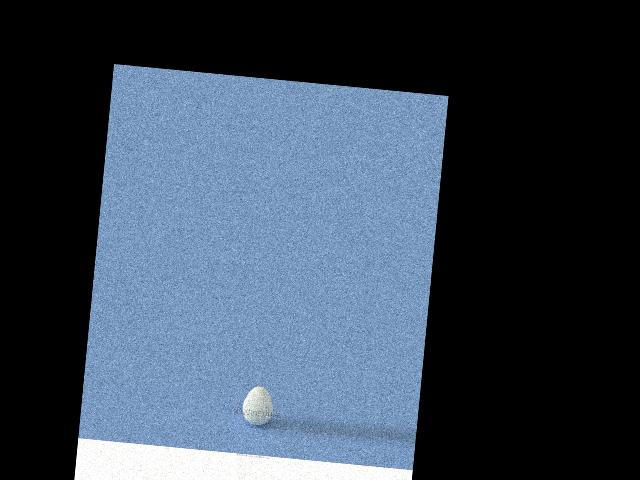egg: (240, 385, 274, 426)
